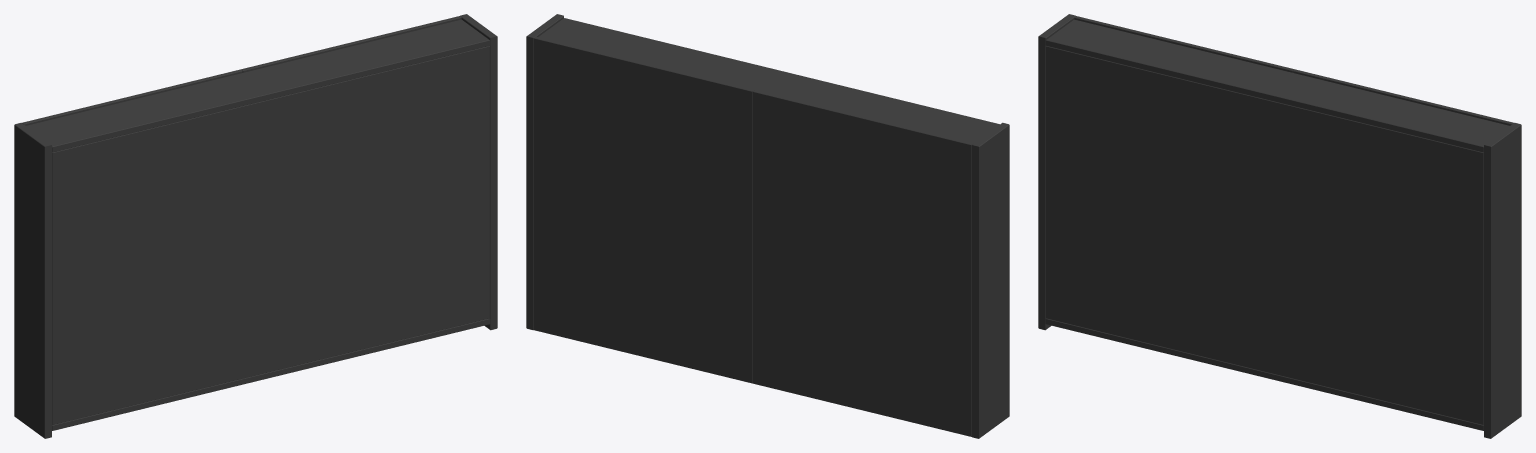
File: INK_1105364.glb
The picture shows the model from 3 angles, left to right: view 1: azimuth 30°, elevation 25°; view 2: azimuth 150°, elevation 25°; view 3: azimuth 330°, elevation 25°; orthographic projection.
Visible parts, largest first — view 1: aluminium__0, Body__1, aluminium__9, aluminium__7, Mirror__10, Mirror__8; view 2: Mirror__8, Mirror__10, Body__1, aluminium__0, aluminium__7, aluminium__9; view 3: aluminium__0, Body__1, aluminium__7, aluminium__9, Mirror__8, Mirror__10.
Part boxes in pixels (<box>): aluminium__0: <box>26,19,490,430</box>; Body__1: <box>14,14,497,438</box>; aluminium__9: <box>241,16,461,72</box>; aluminium__7: <box>22,69,242,124</box>; Mirror__10: <box>243,18,461,72</box>; Mirror__8: <box>24,71,242,125</box>; Mirror__8: <box>753,92,971,436</box>; Mirror__10: <box>534,38,752,382</box>; Body__1: <box>526,14,1009,438</box>; aluminium__0: <box>538,18,999,143</box>; aluminium__7: <box>753,90,973,436</box>; aluminium__9: <box>534,36,754,383</box>; aluminium__0: <box>1045,19,1509,430</box>; Body__1: <box>1038,14,1521,438</box>; aluminium__7: <box>1074,16,1294,72</box>; aluminium__9: <box>1293,69,1513,124</box>; Mirror__8: <box>1074,18,1292,72</box>; Mirror__10: <box>1293,71,1511,125</box>.
Size of the model in its own units: 1.2 by 0.74 by 0.14.
1 material, 1 textured.
